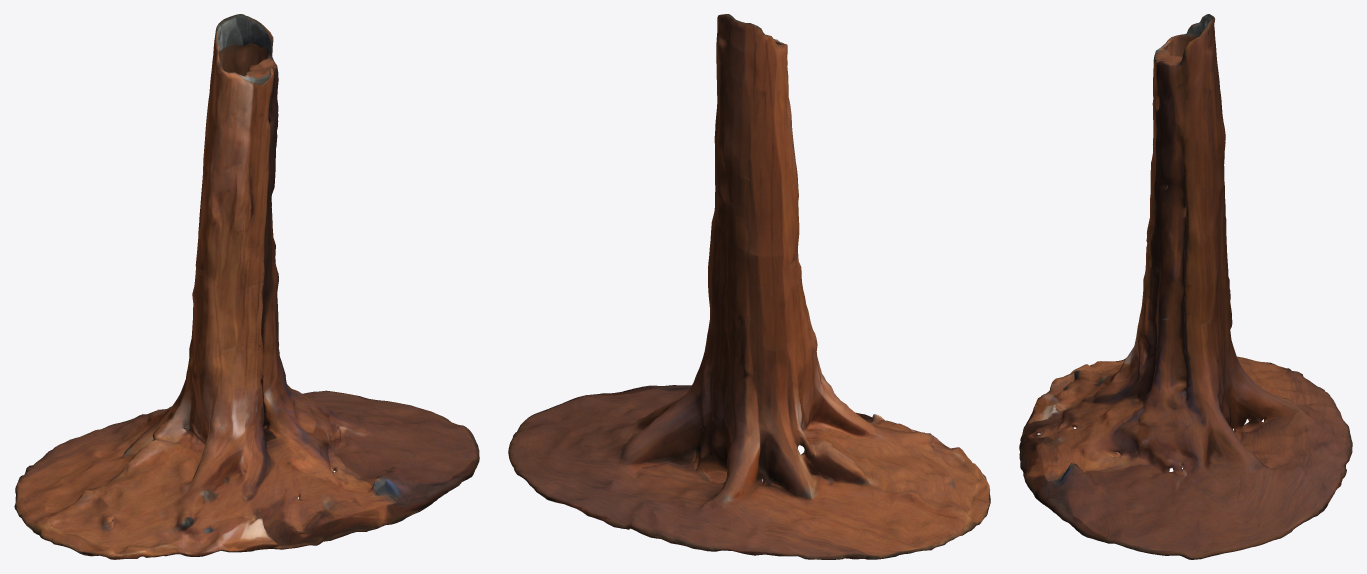
File: AI_AncientRedwoodTree.fbx
The picture shows the model from 3 angles, left to right: view 1: azimuth 30°, elevation 25°; view 2: azimuth 150°, elevation 25°; view 3: azimuth 270°, elevation 25°; orthographic projection. The views are drawn at different scales.
Parts seen in each view (by area): view 1: Mesh_0; view 2: Mesh_0; view 3: Mesh_0.
Part boxes in pixels (<box>): Mesh_0: <box>14,14,479,559</box>; Mesh_0: <box>508,14,990,559</box>; Mesh_0: <box>1019,14,1352,559</box>.
Bounding box in the file's own units: 197 × 201 × 137.
Materials: 1 (1 with a texture image).
